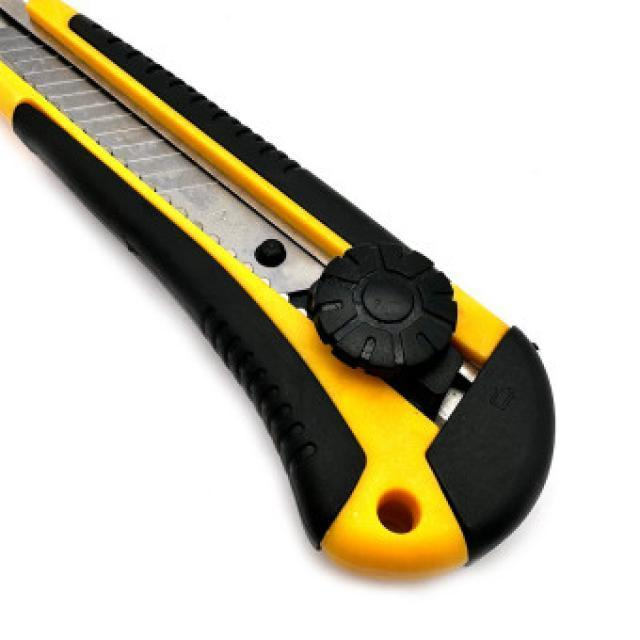cutter: (0, 0, 562, 581)
